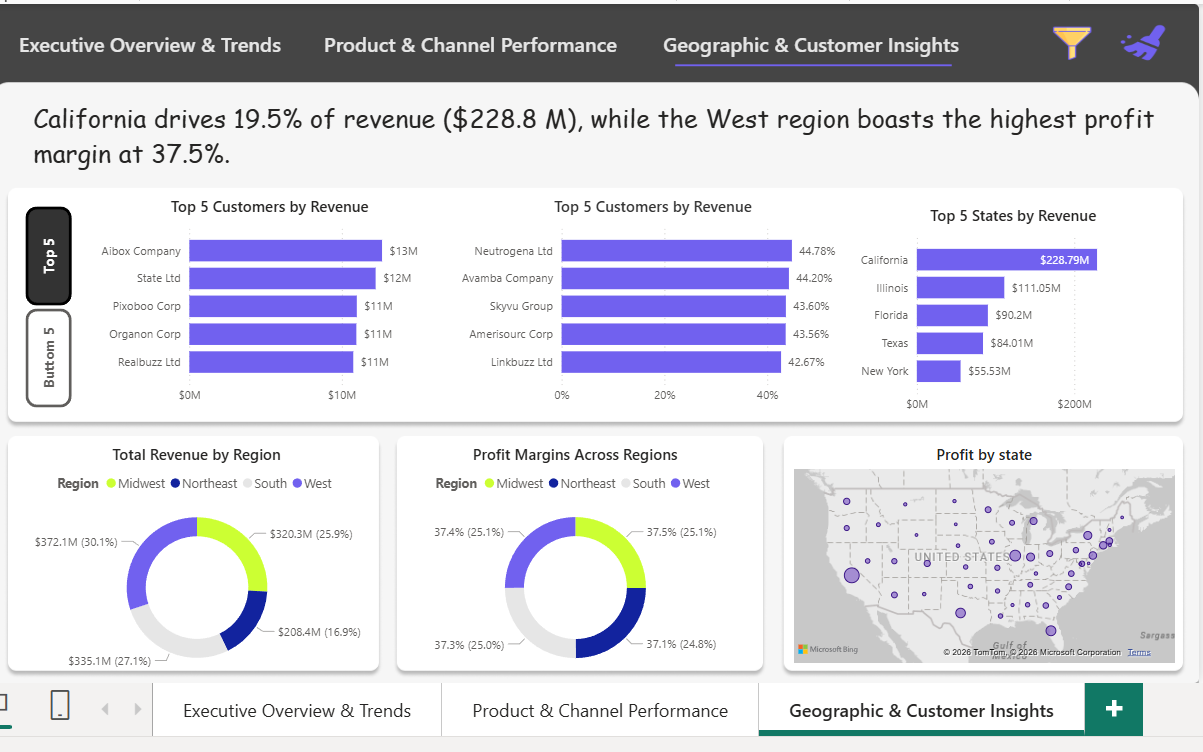

The dashboard page shown, as its layout file describes it:
{"tool":"powerbi","page":{"name":"Geographic & Customer Insights","canvas":[1280,720],"ordinal":2},"visuals":[{"type":"barChart","title":"Top 5 States by Revenue","fields":{"Category":["Sales_data.state_name"],"Y":["Measures_.Total Revenue"]},"box":[911.4,212.3,345.2,229],"z":0,"group":"g2"},{"type":"actionButton","box":[37,215,49,105],"z":0,"group":"g1"},{"type":"donutChart","title":"Total Revenue by Region","fields":{"Category":["Sales_data.us_region"],"Y":["Measures_.Total Revenue"]},"box":[20.3,466.1,394.9,254.2],"z":0},{"type":"barChart","title":"Top 5 Customers by Revenue","fields":{"Category":["Sales_data.customer_name"],"Y":["Measures_.Profit Margin %"]},"box":[486.5,203.4,430.5,228.8],"z":1000,"group":"g2"},{"type":"actionButton","box":[36.7,323.3,49,105],"z":1000,"group":"g1"},{"type":"donutChart","title":"Profit Margins Across Regions","fields":{"Category":["Sales_data.us_region"],"Y":["Measures_.Profit Margin %"]},"box":[415.3,466.1,408.5,254.2],"z":1000},{"type":"actionButton","box":[337.2,14.1,342.3,55.1],"z":2000},{"type":"barChart","title":"Top 5 Customers by Revenue","fields":{"Category":["Sales_data.customer_name"],"Y":["Measures_.Total Revenue"]},"box":[105.1,203.4,381.4,228.8],"z":2000,"group":"g2"},{"type":"actionButton","box":[9,14.1,317.9,55.1],"z":3000},{"type":"actionButton","box":[702.6,14.1,333.3,55.1],"z":4000},{"type":"group","id":"g1","title":"top 5 button","box":[36.7,215,48.3,213.3],"z":6000},{"type":"map","title":" Profit by state","fields":{"Category":["Sales_data.state"],"Size":["Measures_.Total Profit"]},"box":[846.9,465.7,413.8,237.7],"z":7000},{"type":"group","id":"g2","title":"top 5","box":[105.1,203.4,1151.5,238],"z":9000},{"type":"textbox","title":"Top Text","box":[40,96.2,1222.5,120],"z":11000},{"type":"actionButton","box":[1188,14,70,55],"z":12000},{"type":"actionButton","box":[1120,21,53,42],"z":13000}]}

Visuals, with their boxes on the page's 1280x720 design canvas (x1, y1, x2, y2). These are canvas units, not pixel positions in the 1203x752 screenshot, which may show the page scaled, cropped or inside an application window:
"Top 5 States by Revenue" barChart: [left=911, top=212, right=1257, bottom=441]
actionButton: [left=37, top=215, right=86, bottom=320]
"Total Revenue by Region" donutChart: [left=20, top=466, right=415, bottom=720]
"Top 5 Customers by Revenue" barChart: [left=486, top=203, right=917, bottom=432]
actionButton: [left=37, top=323, right=86, bottom=428]
"Profit Margins Across Regions" donutChart: [left=415, top=466, right=824, bottom=720]
actionButton: [left=337, top=14, right=680, bottom=69]
"Top 5 Customers by Revenue" barChart: [left=105, top=203, right=486, bottom=432]
actionButton: [left=9, top=14, right=327, bottom=69]
actionButton: [left=703, top=14, right=1036, bottom=69]
"top 5 button" group: [left=37, top=215, right=85, bottom=428]
" Profit by state" map: [left=847, top=466, right=1261, bottom=703]
"top 5" group: [left=105, top=203, right=1257, bottom=441]
"Top Text" textbox: [left=40, top=96, right=1262, bottom=216]
actionButton: [left=1188, top=14, right=1258, bottom=69]
actionButton: [left=1120, top=21, right=1173, bottom=63]
